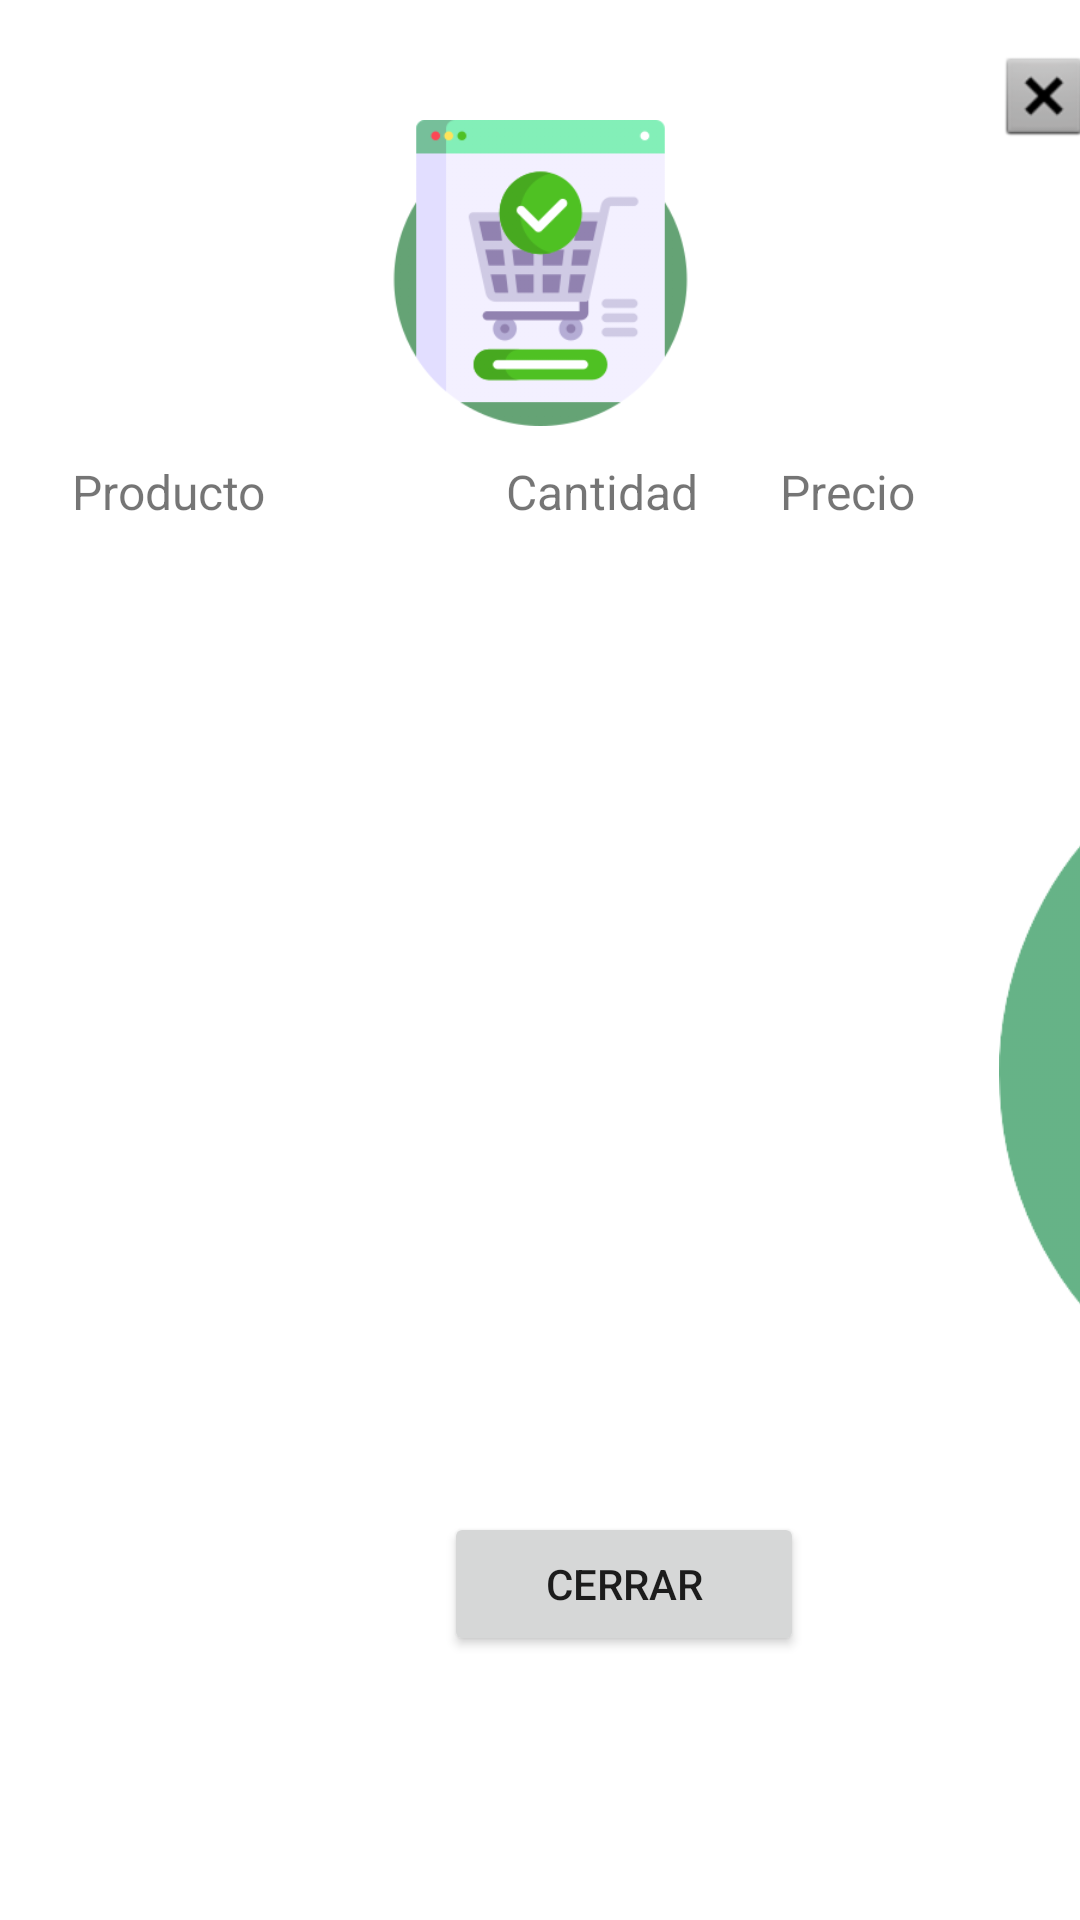

Screen size 1080*1920. Icon name, then its center in pixels as (x,y):
pedido: (540,273)
